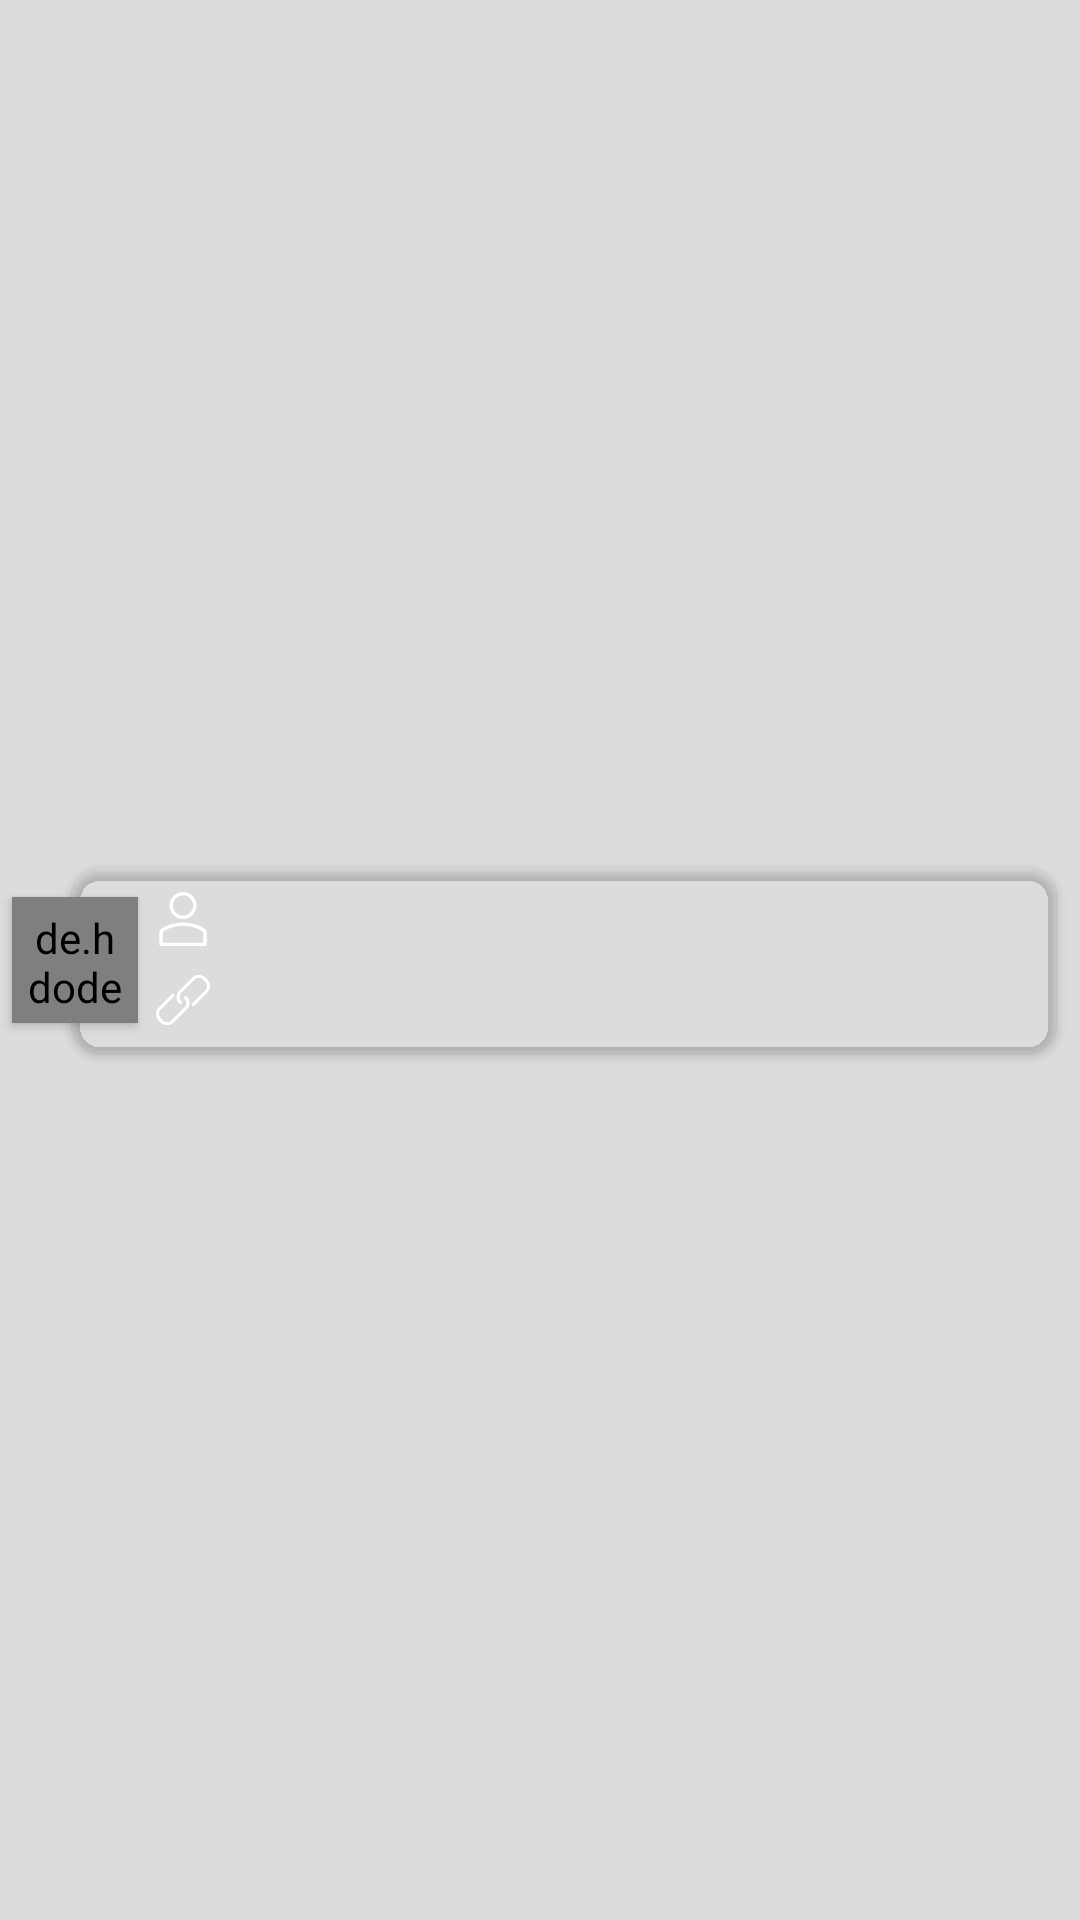

Named icons in this screenshot (1080px×1920px) and their bounding boxes, (x1, y1, x2, y2):
link: (156, 975, 210, 1025)
user: (159, 892, 207, 946)
